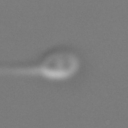normal: (1, 58, 41, 87)
